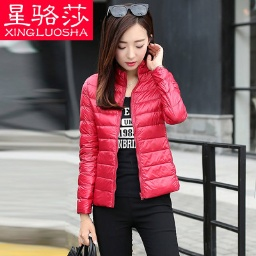face: (97, 3, 154, 84)
